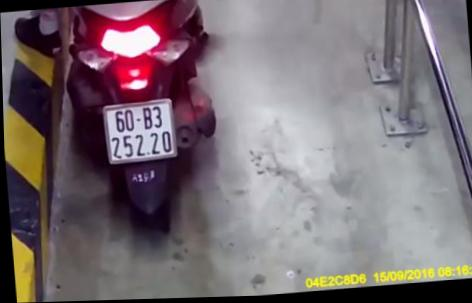LP: (100, 98, 177, 166)
